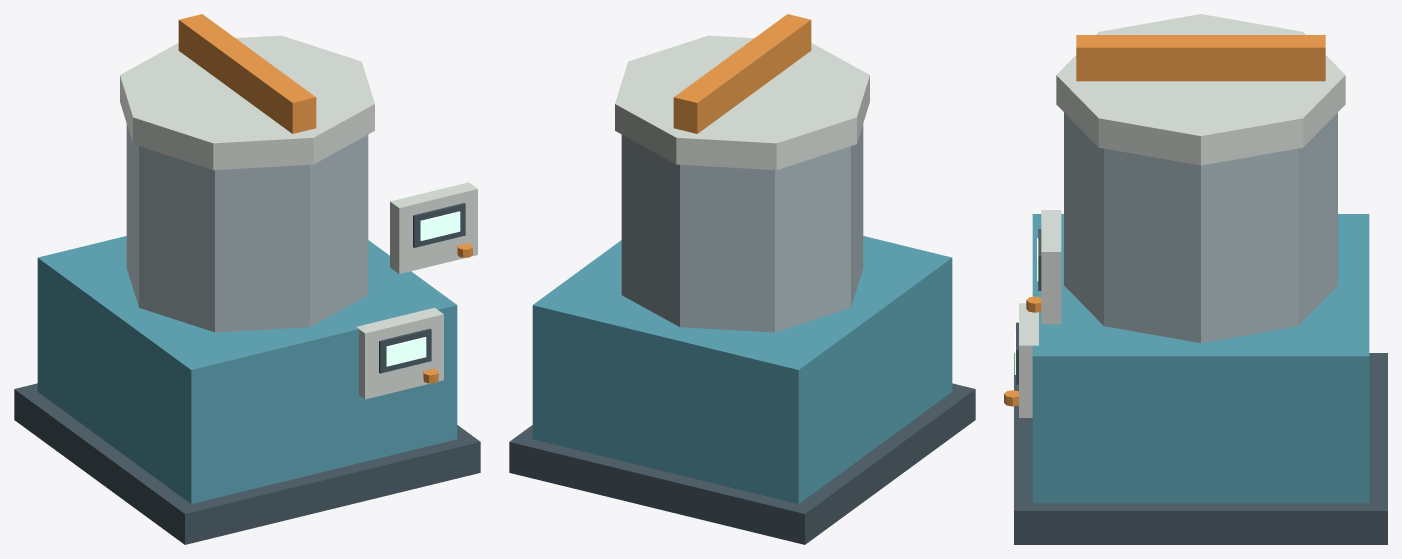
The model's file is separation-centrifuge.glb.
3 views of the same model, side by side, from view 1: azimuth 30°, elevation 25°; view 2: azimuth 150°, elevation 25°; view 3: azimuth 270°, elevation 25° (orthographic). The views are drawn at different scales.
Visible parts, largest first — view 1: blue, steel, cream, dark, orange, light; view 2: blue, steel, cream, dark, orange; view 3: blue, steel, cream, dark, orange.
Part boxes in pixels (bbox=[...]): blue: bbox=[37, 236, 457, 503]; steel: bbox=[126, 124, 368, 332]; cream: bbox=[120, 35, 477, 399]; dark: bbox=[14, 203, 480, 544]; orange: bbox=[178, 14, 472, 383]; light: bbox=[386, 211, 460, 366]; blue: bbox=[532, 236, 952, 503]; steel: bbox=[621, 124, 863, 332]; cream: bbox=[615, 35, 869, 170]; dark: bbox=[509, 383, 975, 544]; orange: bbox=[673, 14, 811, 133]; blue: bbox=[1032, 214, 1369, 503]; steel: bbox=[1064, 112, 1337, 342]; cream: bbox=[1019, 14, 1345, 417]; dark: bbox=[1014, 229, 1387, 544]; orange: bbox=[1004, 35, 1325, 406].
Bounding box in the file's own units: 1.55 × 1.88 × 1.54.
